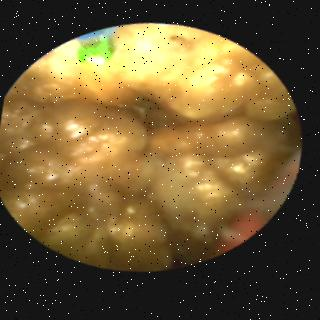laser: (78, 40, 110, 64)
stone: (0, 28, 293, 268)
